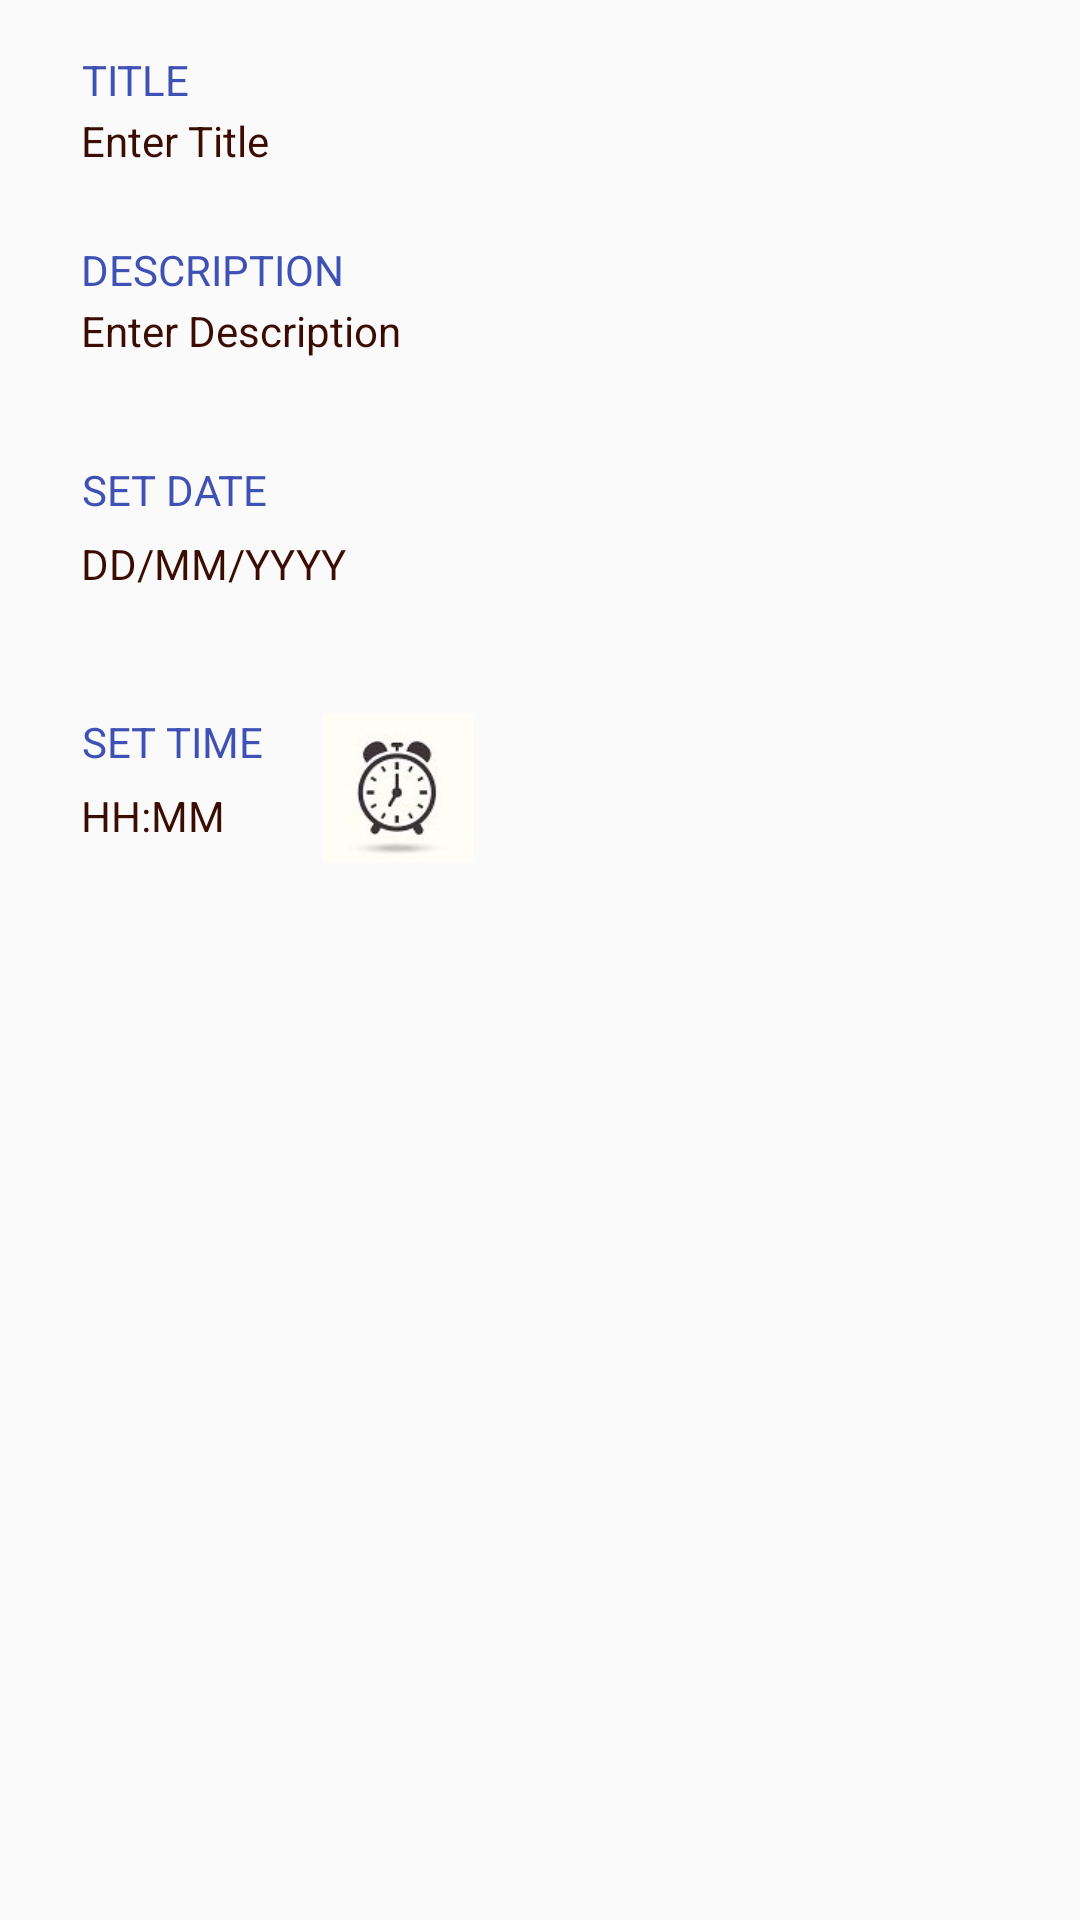

Screen size 1080px×1920px. Icon name, then its center in pixels as (x,y):
clock: (396,796)
